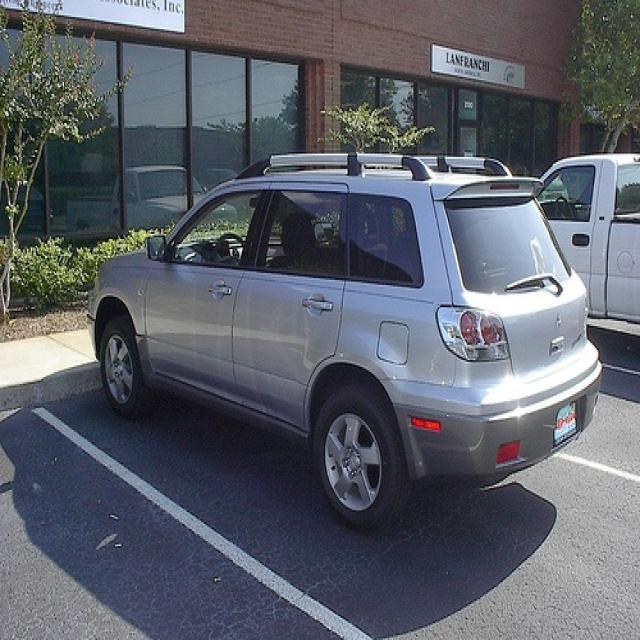car: (92, 150, 603, 533), (528, 154, 638, 324), (61, 162, 208, 241), (9, 184, 54, 234)
